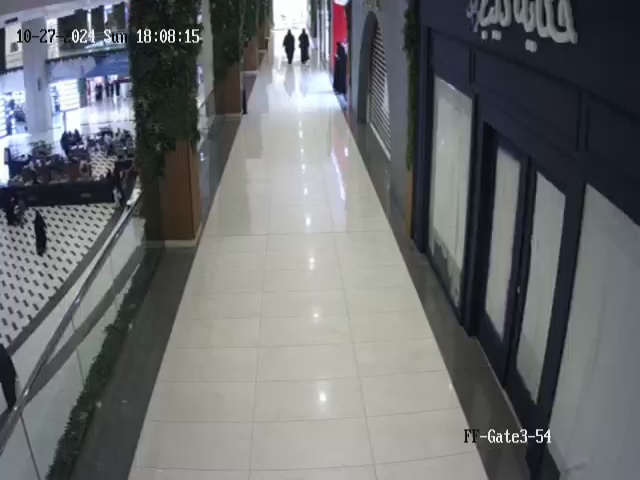female: (30, 206, 51, 259), (282, 29, 295, 64), (298, 28, 310, 65), (104, 78, 115, 99), (93, 80, 102, 101), (115, 77, 123, 98)
